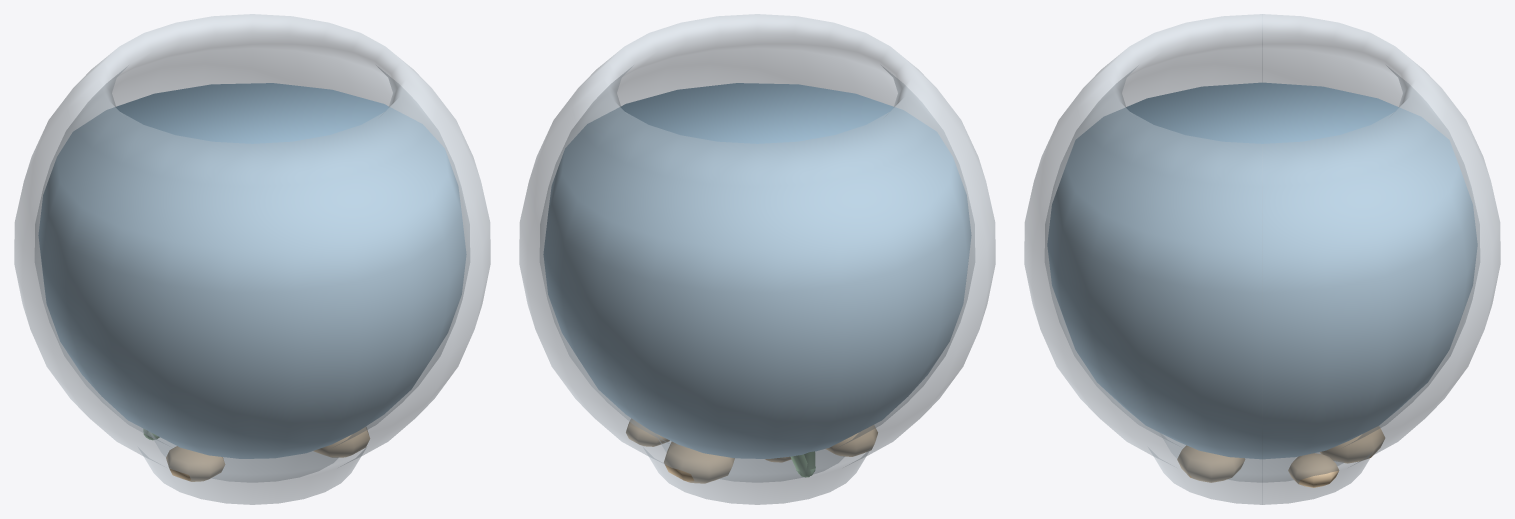
File: companion-animals-and-pet-home-goldfish-bowl-2a9e4dbe__20622.glb
3 views of the same model, side by side, from view 1: azimuth 30°, elevation 25°; view 2: azimuth 150°, elevation 25°; view 3: azimuth 270°, elevation 25° (orthographic).
Visible parts, largest first — view 1: goldfish-bowl; view 2: goldfish-bowl; view 3: goldfish-bowl.
Boxes of the visible parts, box(x1,y1,x2,y2) form: goldfish-bowl: box(14, 14, 490, 504); goldfish-bowl: box(519, 14, 995, 504); goldfish-bowl: box(1024, 14, 1500, 504).
Size of the model in its own units: 0.2789 by 0.2472 by 0.2789.
